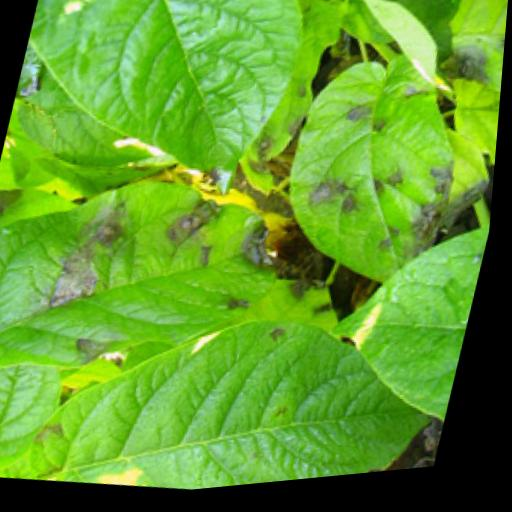Late Blight: (0, 141, 303, 410), (264, 39, 492, 310)
